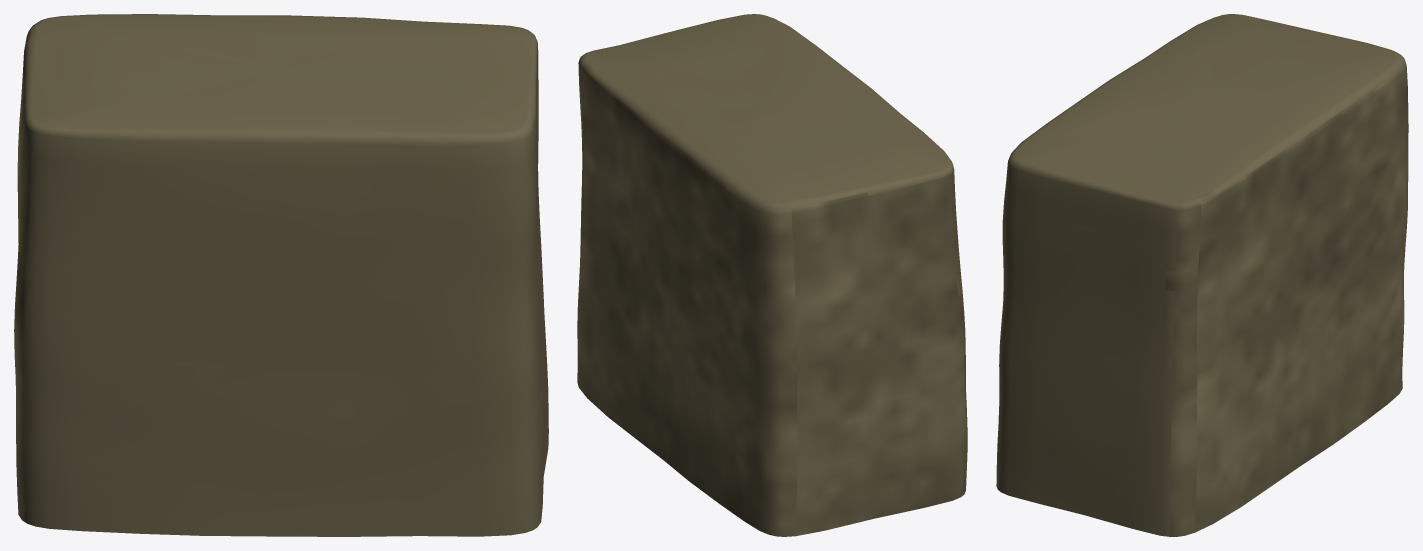
Rendered from ZonHenge07.glb.
The picture shows the model from 3 angles, left to right: view 1: azimuth 30°, elevation 25°; view 2: azimuth 150°, elevation 25°; view 3: azimuth 270°, elevation 25°; orthographic projection. The views are drawn at different scales.
Parts seen in each view (by area): view 1: ZonHenge07; view 2: ZonHenge07; view 3: ZonHenge07.
Boxes of the visible parts, box(x1,y1,x2,y2) form: ZonHenge07: box(14, 14, 548, 536); ZonHenge07: box(577, 14, 967, 536); ZonHenge07: box(996, 14, 1408, 536).
Size of the model in its own units: 2.06 by 1.6 by 1.79.
Materials: 2 (1 with a texture image).
